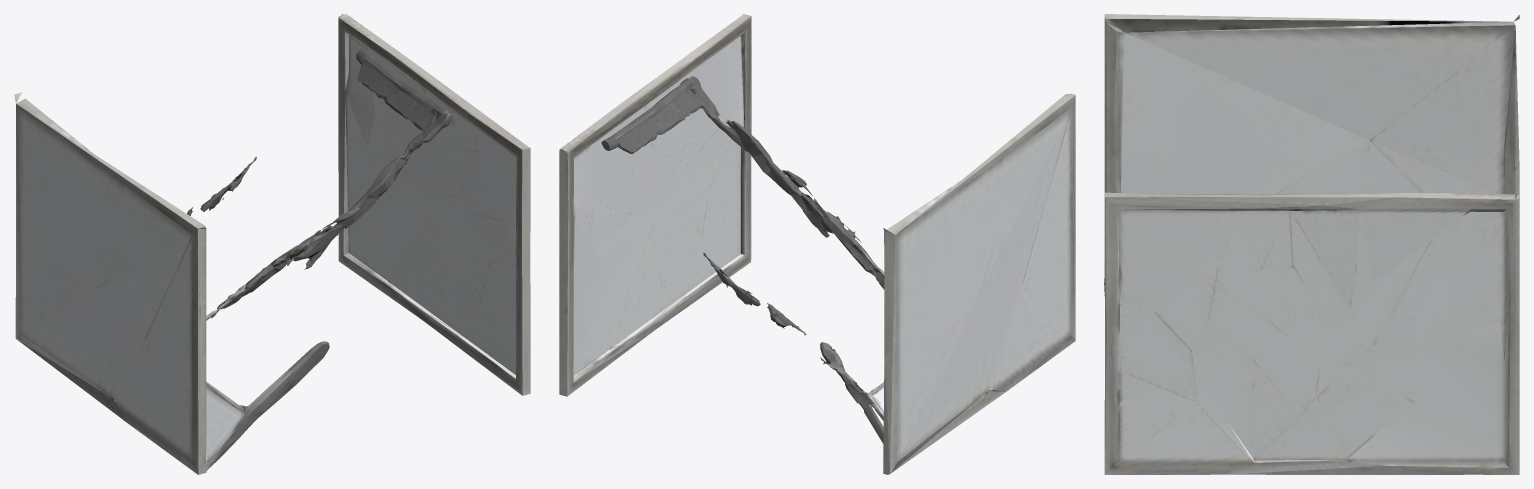
Rendered from w4framesmall.glb.
3 renders of one model, left to right at view 1: azimuth 30°, elevation 25°; view 2: azimuth 150°, elevation 25°; view 3: azimuth 270°, elevation 25°, orthographic. The views are drawn at different scales.
Parts seen in each view (by area): view 1: output_unwrapped; view 2: output_unwrapped; view 3: output_unwrapped.
Part boxes in pixels (left/top/right/bottom): output_unwrapped: left=14, top=14, right=530, bottom=474; output_unwrapped: left=559, top=14, right=1075, bottom=474; output_unwrapped: left=1104, top=14, right=1519, bottom=474.
Bounding box in the file's own units: 0.25 × 0.176 × 0.2385.
Materials: 1 (1 with a texture image).
